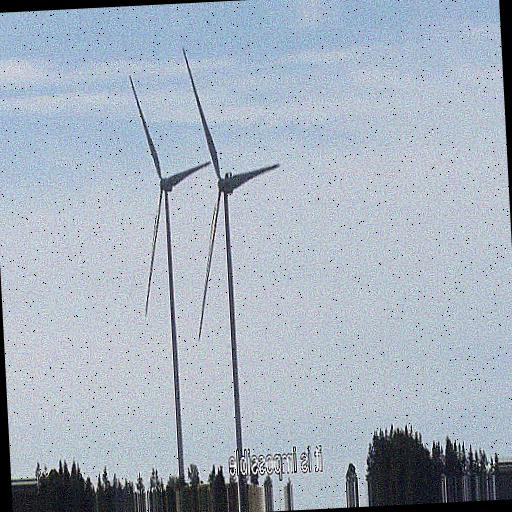wind turbine: (181, 50, 281, 482), (126, 75, 211, 483)
